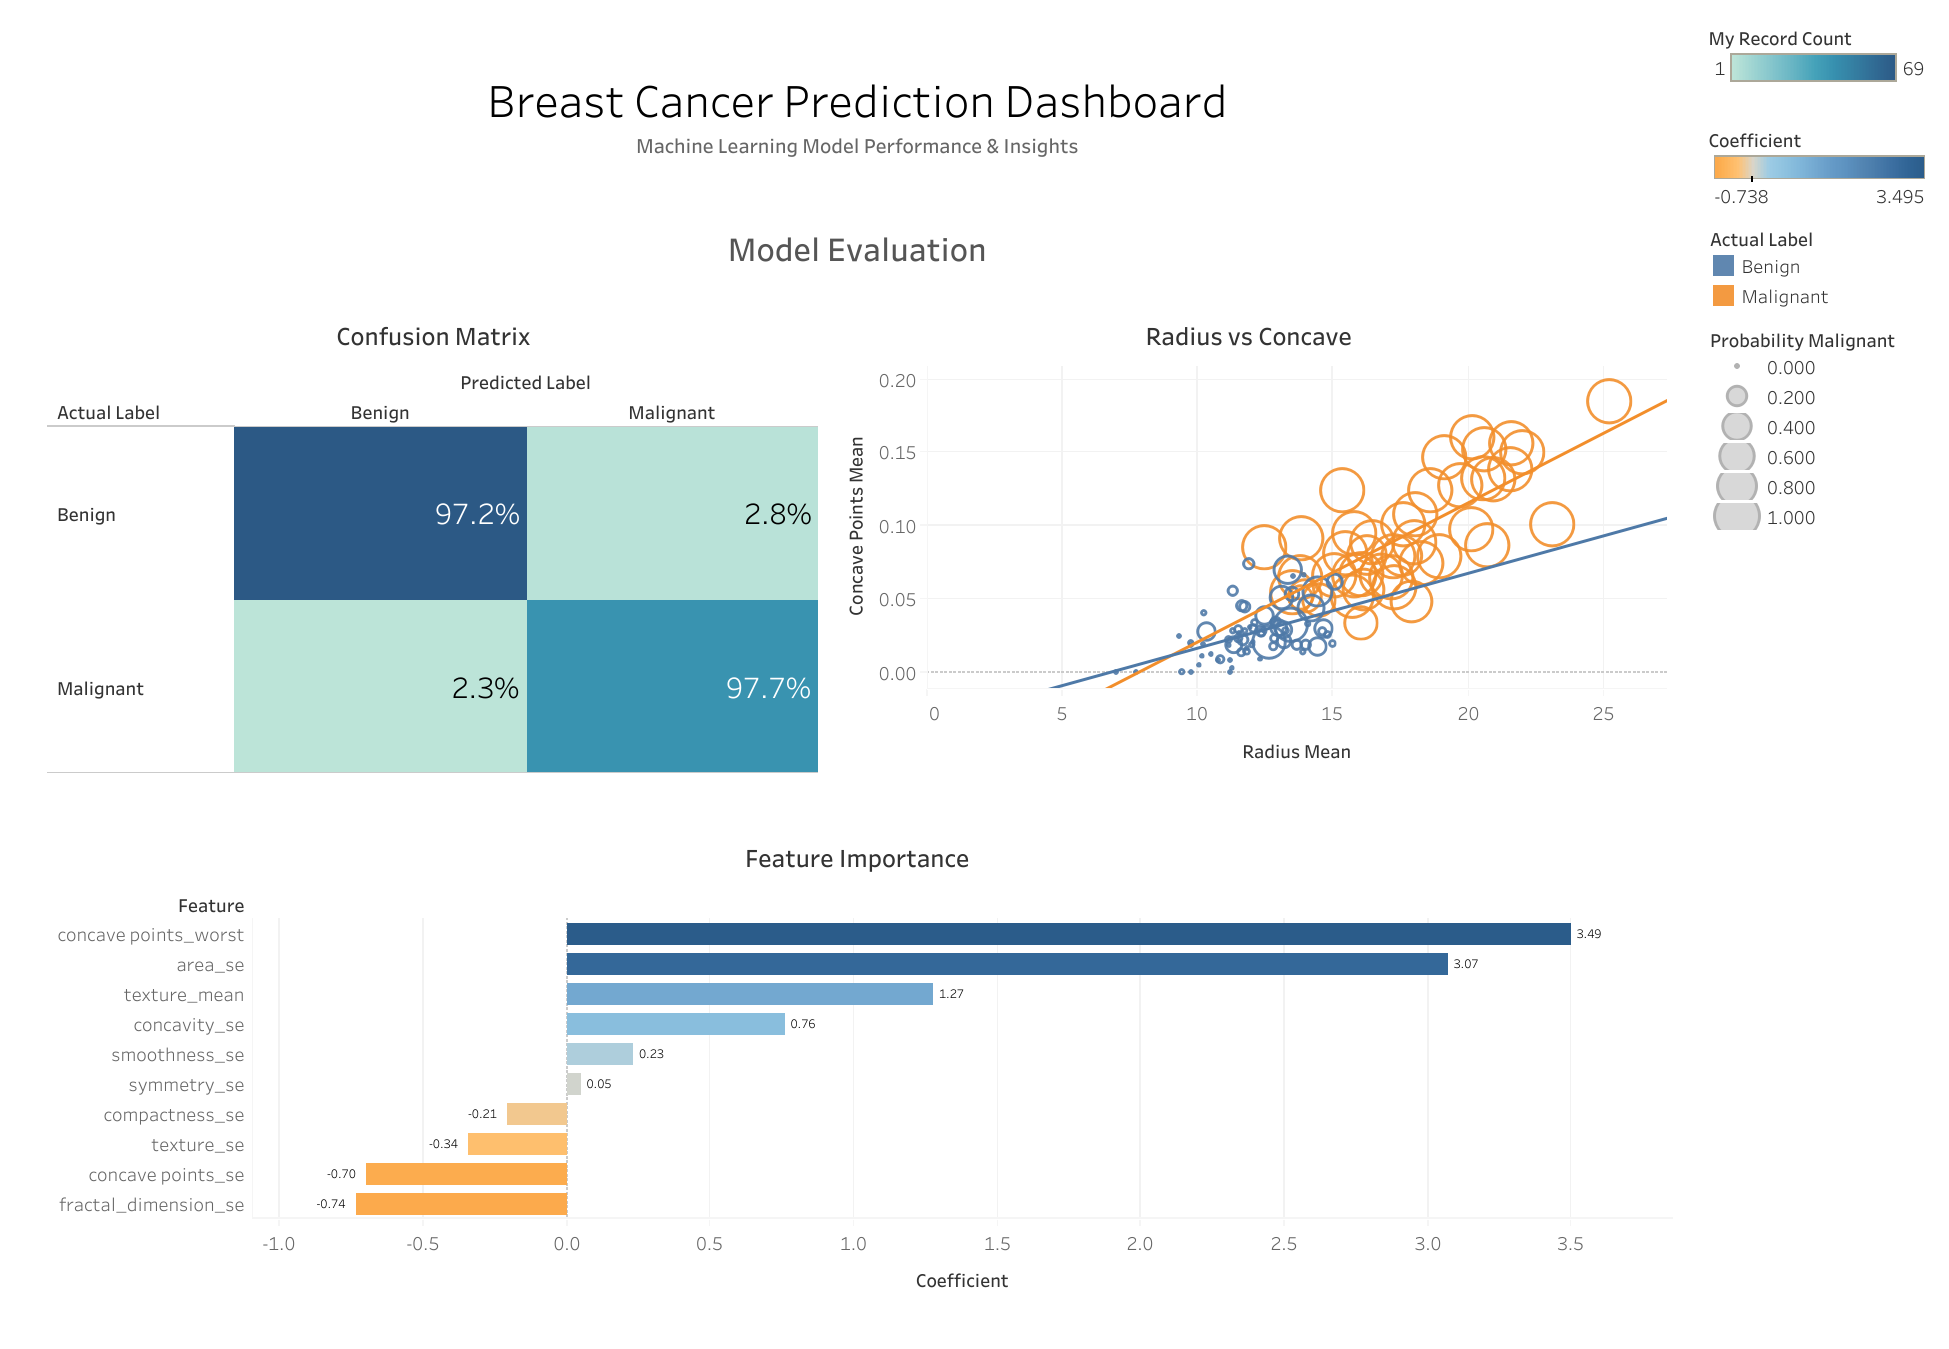

This screenshot's page, from the dashboard's own definition file:
{"tool":"tableau","page":{"name":"Breast Cancer Classification Dashborad","canvas":[1300,900],"ordinal":0},"visuals":[{"type":"text","box":[8,8,1127,136]},{"type":"legend","title":"Confusion Matrix","param":"[federated.13ycahi0vytlfz1gd719806r79w8].[sum:Calculation_49258125538398208:qk]","box":[1135,8,157,81]},{"type":"legend","title":"Feature Importance","param":"[federated.1xmjx7f0snnqdi1gkt8pu0a39dy6].[sum:Coefficient:qk]","box":[1135,89,157,81]},{"type":"text","box":[8,144,1127,42]},{"type":"legend","title":"Radius vs Concave","param":"[federated.13ycahi0vytlfz1gd719806r79w8].[none:Actual_Label:nk]","box":[1135,170,157,84]},{"type":"worksheet","title":"Confusion Matrix","mark":"Square","rows":["Actual_Label"],"cols":["Predicted_Label"],"box":[28,202,522,318]},{"type":"worksheet","title":"Radius vs Concave","mark":"Automatic","rows":["concave points_mean"],"cols":["radius_mean"],"box":[550,202,565,318]},{"type":"legend","title":"Radius vs Concave","param":"[federated.13ycahi0vytlfz1gd719806r79w8].[sum:Probability_Malignant:qk]","box":[1135,254,157,184]},{"type":"worksheet","title":"Feature Importance","mark":"Automatic","rows":["Feature"],"cols":["Coefficient"],"box":[8,536,1127,356]}]}

Visuals, with their boxes in screenshot pixels (x1, y1, x2, y2), scaled from the page's 1300x900 canvas onto the 1949x1349 screenshot:
text: (12,12,1702,216)
"Confusion Matrix" legend: (1702,12,1937,133)
"Feature Importance" legend: (1702,133,1937,255)
text: (12,216,1702,279)
"Radius vs Concave" legend: (1702,255,1937,381)
"Confusion Matrix" worksheet (Square marks): (42,303,825,779)
"Radius vs Concave" worksheet: (825,303,1672,779)
"Radius vs Concave" legend: (1702,381,1937,657)
"Feature Importance" worksheet: (12,803,1702,1337)
